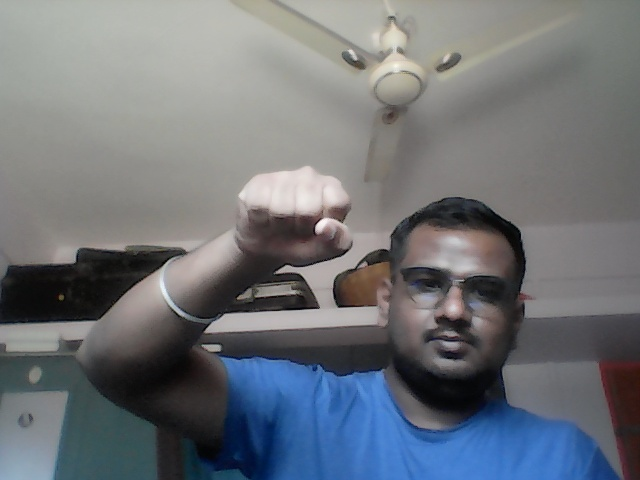Yes: (233, 164, 354, 274)
